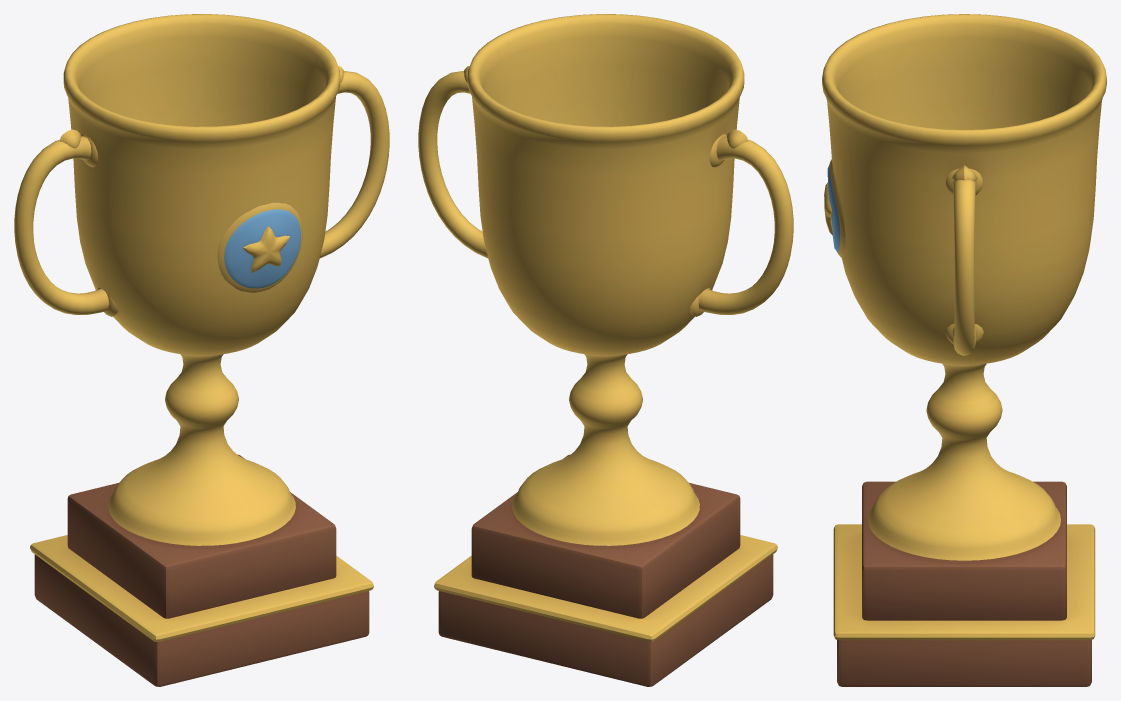
Rendered from showcase-trophy.glb.
3 renders of one model, left to right at view 1: azimuth 30°, elevation 25°; view 2: azimuth 150°, elevation 25°; view 3: azimuth 270°, elevation 25°, orthographic. The views are drawn at different scales.
Parts seen in each view (by area): view 1: trophy_body; view 2: trophy_body; view 3: trophy_body.
Boxes of the visible parts, bbox=[...] form: trophy_body: bbox=[14, 14, 389, 686]; trophy_body: bbox=[418, 14, 793, 686]; trophy_body: bbox=[822, 14, 1106, 686].
Size of the model in its own units: 0.2498 by 0.351 by 0.161.
Materials: 1 (1 with a texture image).
